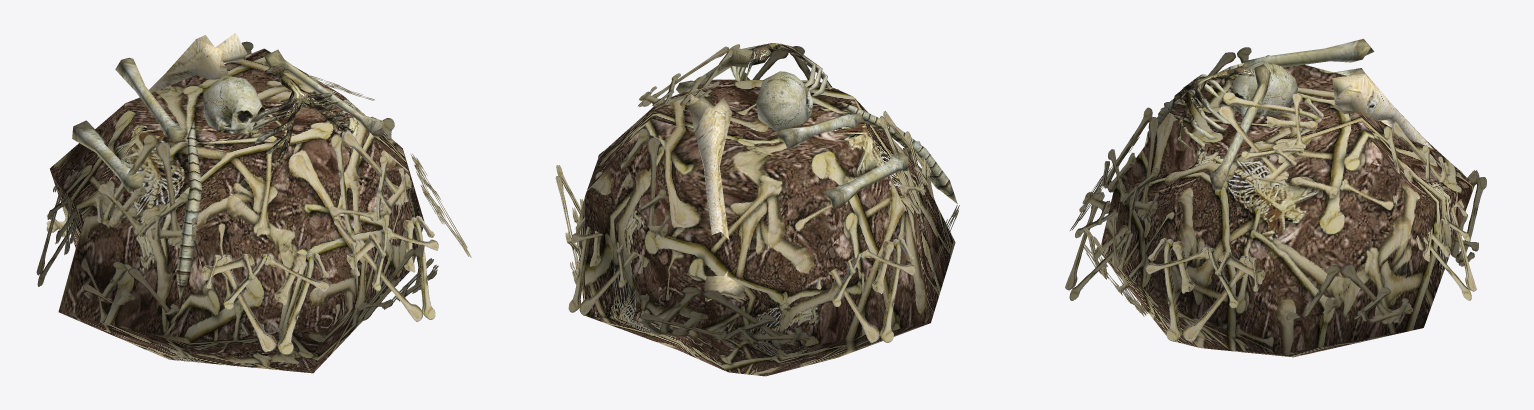
Rendered from poi_all_lair_bones_l1.fbx.
The picture shows the model from 3 angles, left to right: view 1: azimuth 30°, elevation 25°; view 2: azimuth 150°, elevation 25°; view 3: azimuth 270°, elevation 25°; orthographic projection. The views are drawn at different scales.
Parts seen in each view (by area): view 1: mesh_node; view 2: mesh_node; view 3: mesh_node.
Boxes of the visible parts, <box> form: mesh_node: <box>36,33,471,373</box>; mesh_node: <box>555,43,959,376</box>; mesh_node: <box>1065,38,1486,357</box>.
Size of the model in its own units: 1.65 by 1.16 by 1.75.
